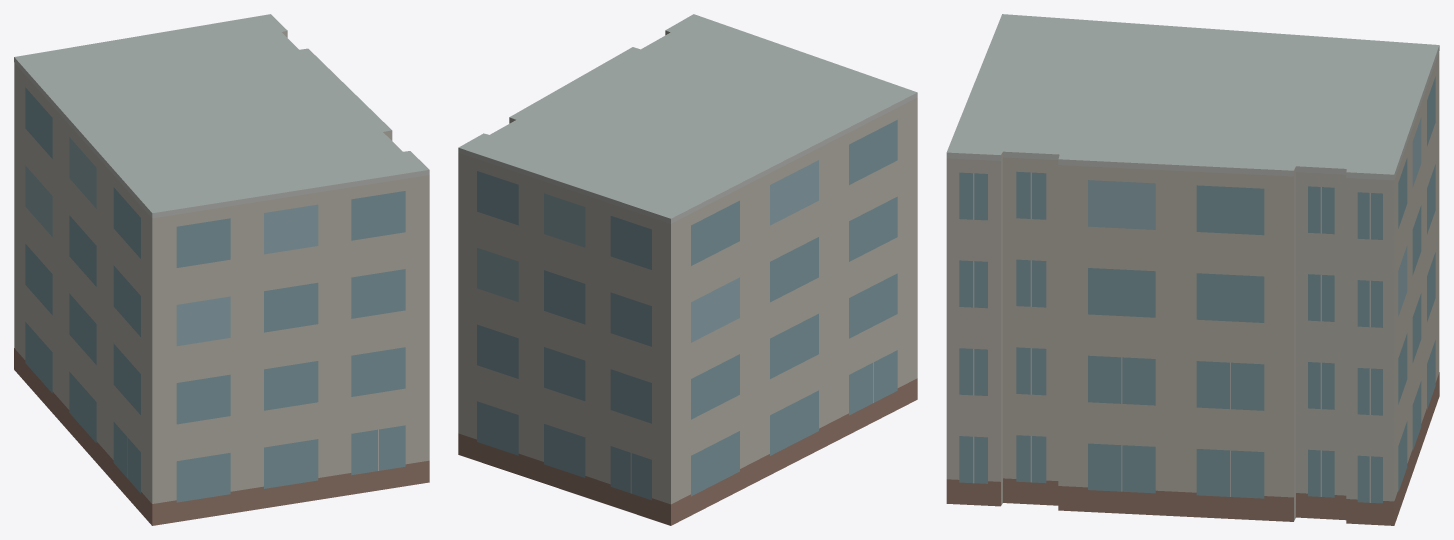
Rendered from survey-upis-32675957.glb.
3 views of the same model, side by side, from view 1: azimuth 30°, elevation 25°; view 2: azimuth 150°, elevation 25°; view 3: azimuth 270°, elevation 25° (orthographic). The views are drawn at different scales.
Visible parts, largest first — view 1: survey-upis-32675957.tmp; view 2: survey-upis-32675957.tmp; view 3: survey-upis-32675957.tmp.
Boxes of the visible parts, left/top/right/bottom form: survey-upis-32675957.tmp: left=14, top=14, right=429, bottom=525; survey-upis-32675957.tmp: left=458, top=14, right=917, bottom=525; survey-upis-32675957.tmp: left=946, top=14, right=1439, bottom=525.
Size of the model in its own units: 14.63 by 14.9 by 18.97.
